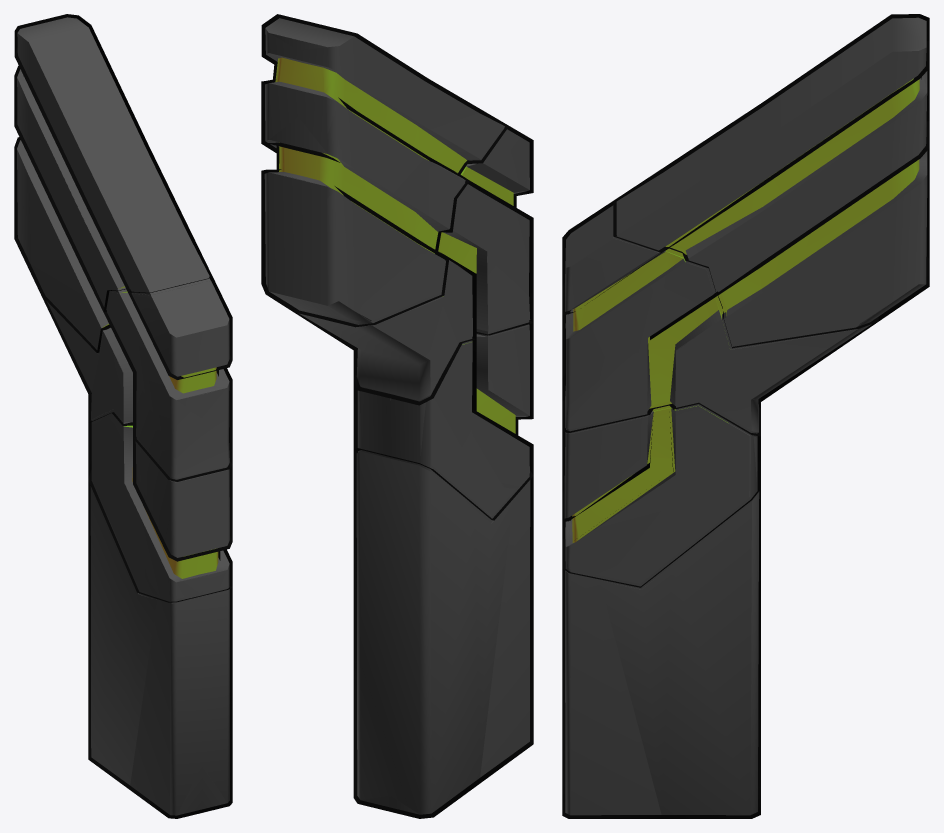
Rendered from Obstacle9.fbx.
The picture shows the model from 3 angles, left to right: view 1: azimuth 30°, elevation 25°; view 2: azimuth 150°, elevation 25°; view 3: azimuth 270°, elevation 25°; orthographic projection. The views are drawn at different scales.
Parts seen in each view (by area): view 1: Cube, Fragment.001, Fragment, Fragment.002, Fragment.003; view 2: Cube, Fragment, Fragment.001, Fragment.002, Fragment.003; view 3: Cube, Fragment, Fragment.001, Fragment.002, Fragment.003.
Boxes of the visible parts, box(x1,y1,x2,y2) form: Cube: box(14, 15, 232, 818); Fragment.001: box(14, 14, 212, 352); Fragment: box(88, 481, 232, 818); Fragment.002: box(41, 278, 232, 481); Fragment.003: box(88, 413, 232, 602); Cube: box(261, 14, 533, 818); Fragment: box(353, 448, 530, 818); Fragment.001: box(261, 14, 508, 327); Fragment.002: box(294, 129, 533, 405); Fragment.003: box(355, 323, 533, 520); Cube: box(562, 14, 929, 818); Fragment: box(562, 489, 760, 818); Fragment.001: box(613, 14, 929, 348); Fragment.002: box(562, 203, 871, 436); Fragment.003: box(562, 405, 760, 587).
Size of the model in its own units: 118 by 1183 by 512.
